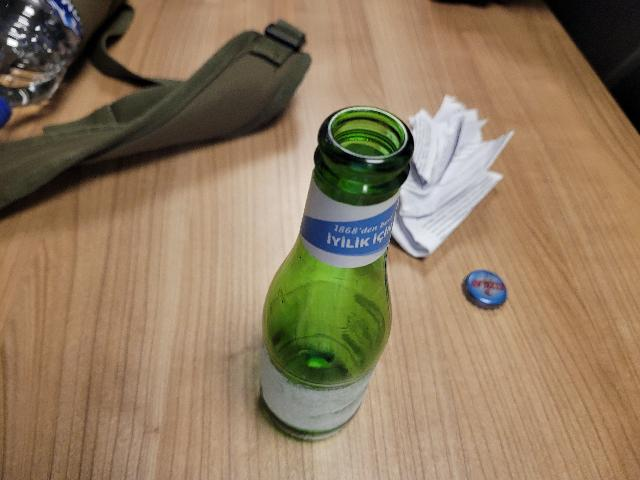Cam: (255, 104, 417, 444)
Kagit: (398, 93, 516, 257)
Metal: (460, 259, 509, 316)
